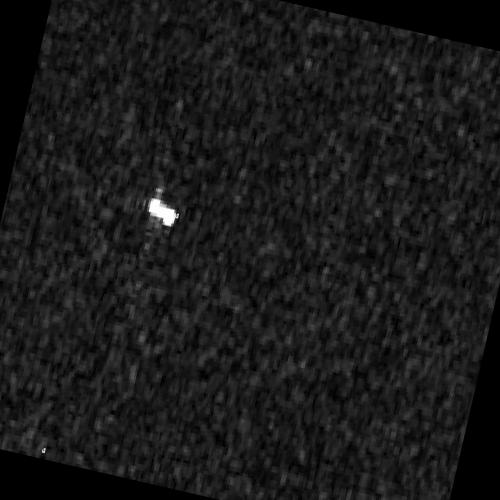ship: (146, 197, 179, 228)
